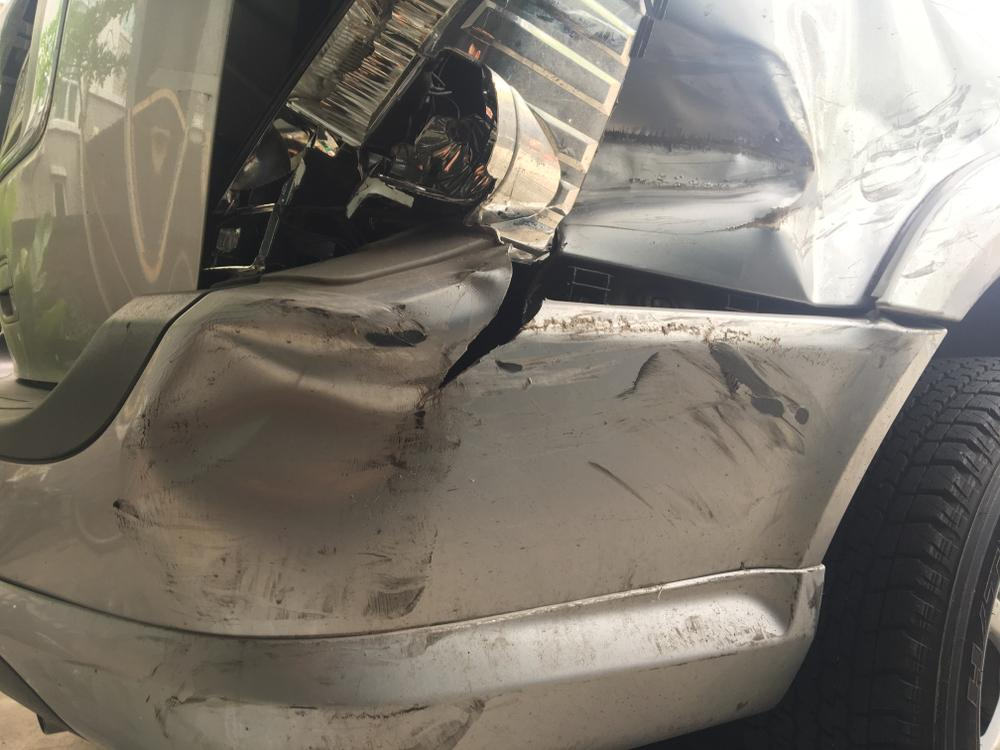crack: (435, 258, 544, 397)
dent: (557, 0, 1000, 309), (133, 302, 461, 556)
scratch: (140, 499, 489, 750), (514, 316, 831, 537)
